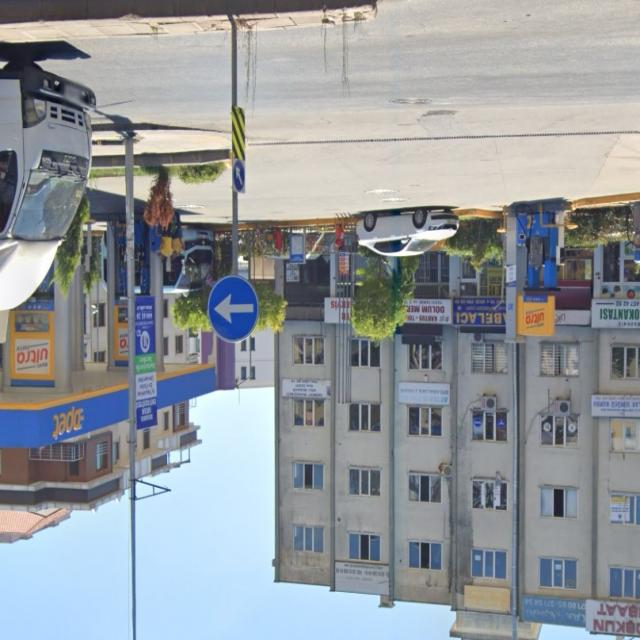Turn Left: (204, 271, 266, 349)
